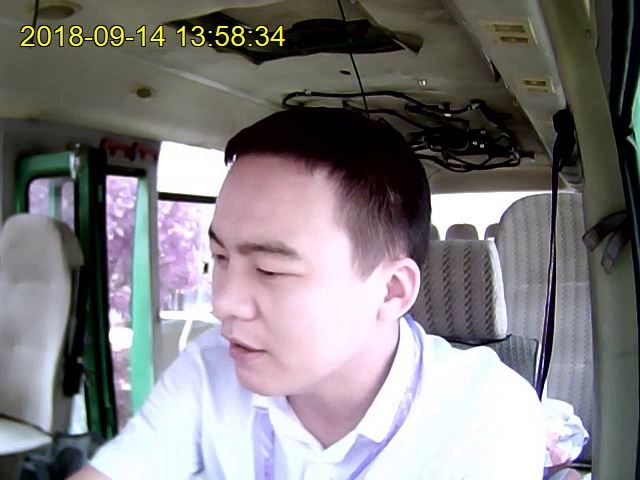closed_mouth: (222, 330, 268, 368)
